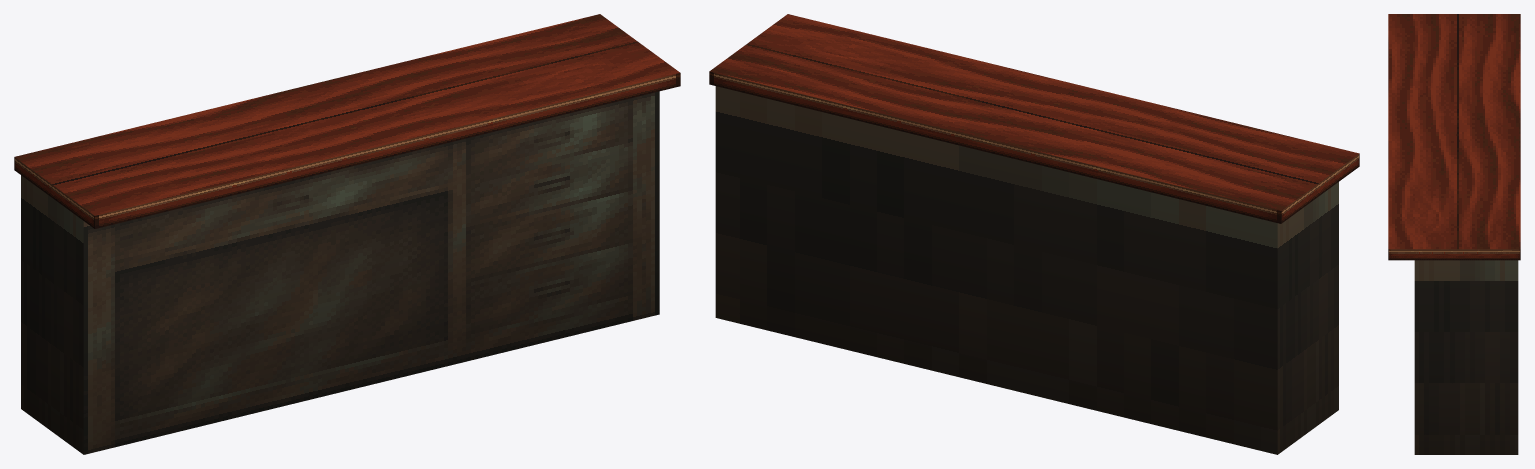
File: prop_table-counter-2.glb
The picture shows the model from 3 angles, left to right: view 1: azimuth 30°, elevation 25°; view 2: azimuth 150°, elevation 25°; view 3: azimuth 270°, elevation 25°; orthographic projection. The views are drawn at different scales.
Visible parts, largest first — view 1: prop_table-counter-2; view 2: prop_table-counter-2; view 3: prop_table-counter-2.
Boxes of the visible parts, bbox=[...] form: prop_table-counter-2: bbox=[14, 14, 680, 454]; prop_table-counter-2: bbox=[709, 14, 1359, 454]; prop_table-counter-2: bbox=[1388, 14, 1520, 454].
Size of the model in its own units: 2.31 by 0.95 by 0.55.
2 materials, 2 textured.
